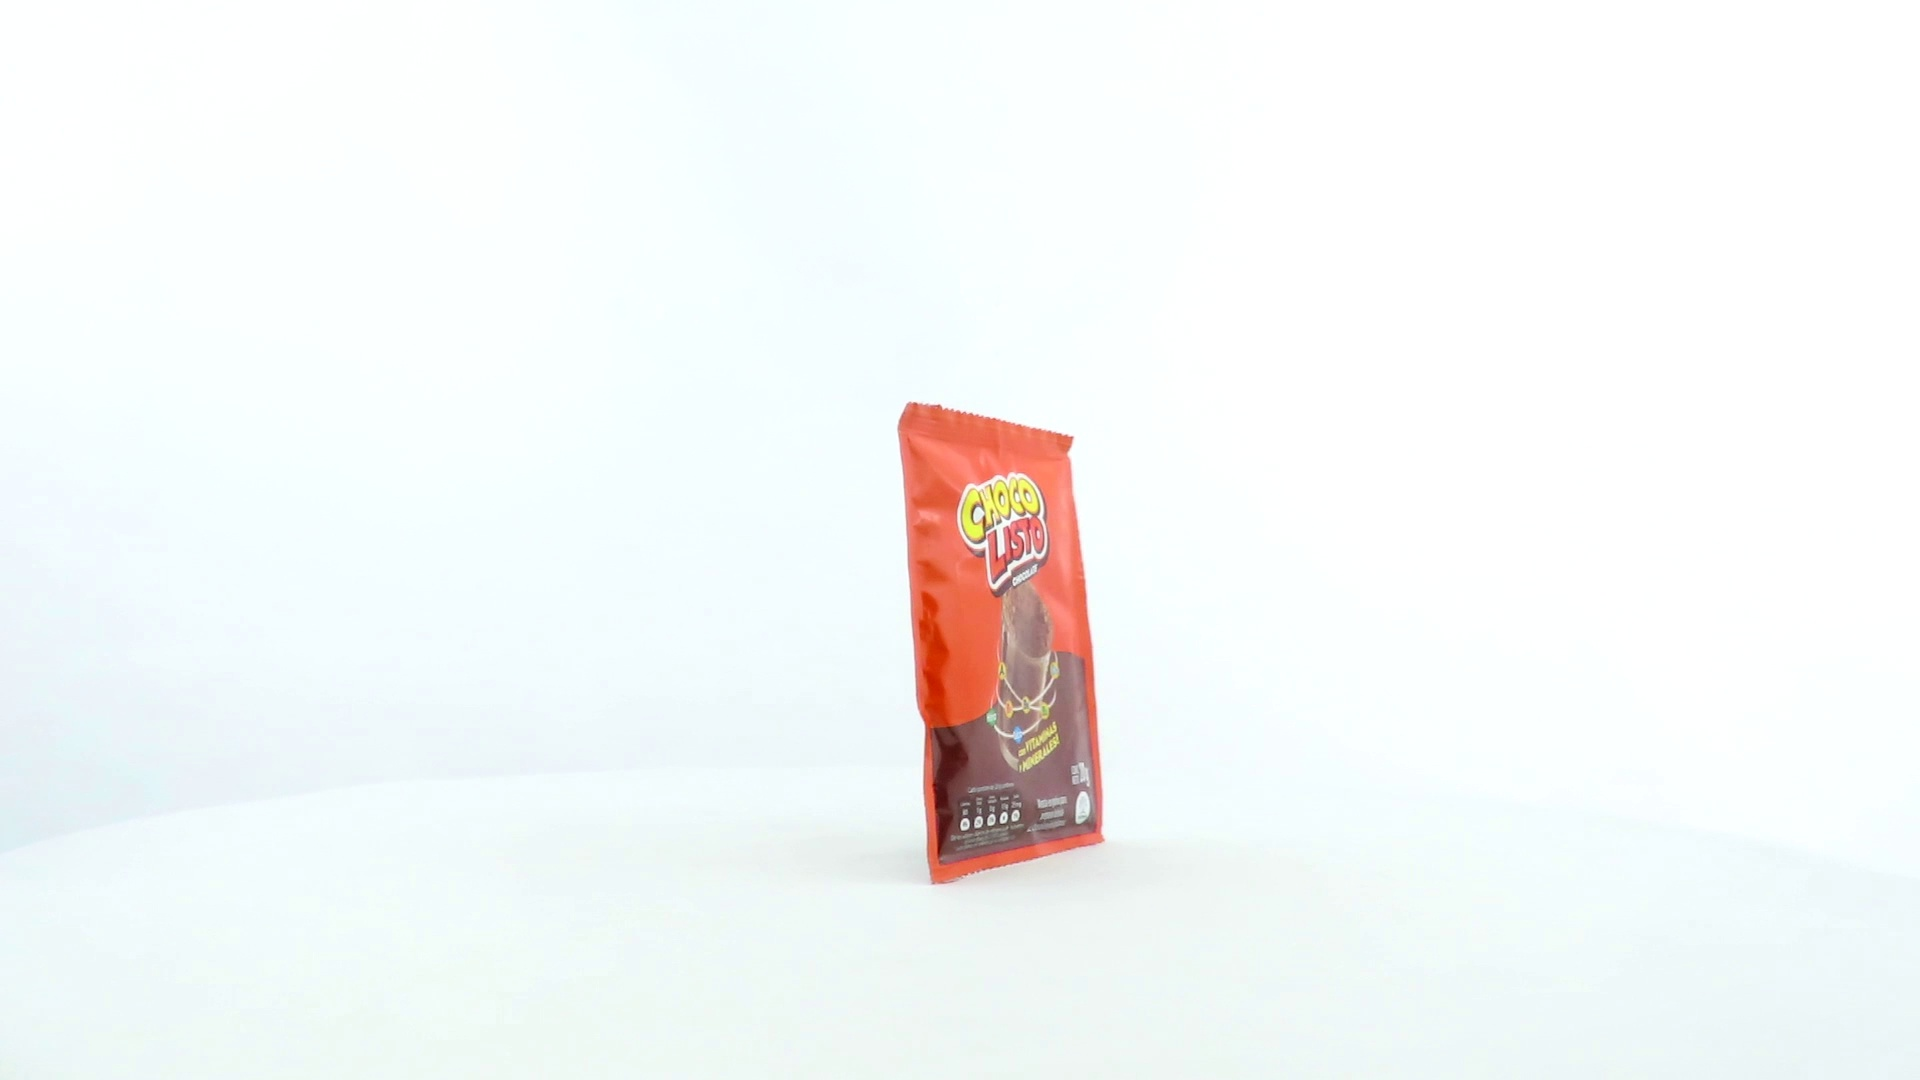COL0170103SOB02000: (891, 396, 1112, 891)
